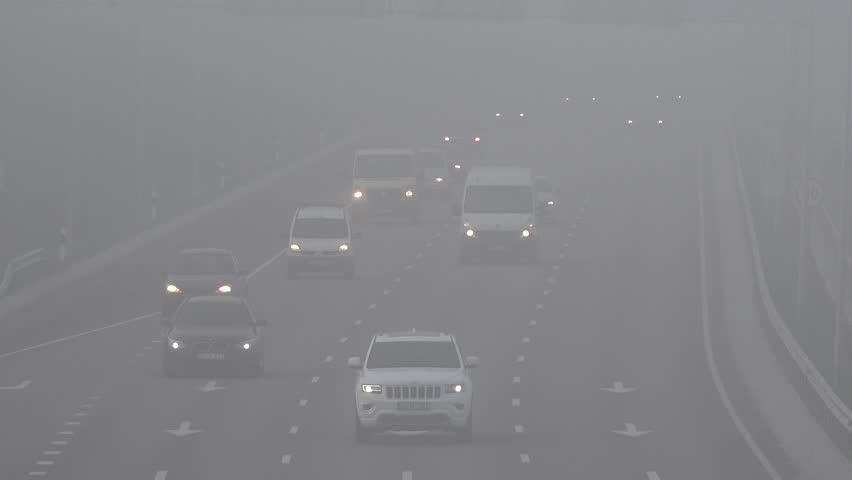airplane: (352, 157, 456, 222), (612, 421, 654, 436), (600, 379, 639, 393)
bird: (607, 388, 656, 434), (164, 419, 207, 436), (612, 421, 654, 436), (600, 379, 639, 393), (619, 417, 651, 431), (604, 376, 629, 391)
boat: (442, 363, 658, 438), (347, 149, 466, 241), (612, 421, 654, 436), (599, 382, 640, 394)
bus: (299, 151, 452, 274), (379, 153, 527, 253), (345, 320, 468, 431), (349, 149, 465, 237), (347, 158, 425, 264), (461, 170, 542, 264), (393, 159, 467, 257), (345, 145, 417, 223), (160, 250, 249, 312), (353, 174, 450, 227), (287, 200, 354, 275)
car: (3, 164, 852, 450), (0, 259, 411, 468), (308, 156, 609, 343), (206, 146, 539, 293), (51, 353, 453, 466), (21, 239, 285, 406), (14, 318, 303, 455), (150, 298, 469, 421), (187, 180, 417, 343), (146, 255, 425, 375), (332, 321, 592, 449), (193, 333, 442, 441), (418, 338, 660, 447), (290, 139, 462, 284), (374, 177, 561, 310), (247, 201, 460, 315), (354, 164, 488, 337), (174, 348, 355, 475), (332, 159, 533, 270), (0, 245, 225, 344), (149, 220, 342, 332), (69, 252, 251, 367), (217, 165, 408, 274), (32, 222, 258, 314), (0, 280, 220, 372), (294, 309, 465, 419), (150, 261, 307, 366), (360, 280, 479, 415), (355, 332, 474, 438), (349, 150, 466, 256), (177, 297, 328, 376), (325, 182, 455, 272), (393, 155, 525, 242), (120, 240, 256, 320), (238, 267, 348, 364), (66, 279, 211, 350), (162, 288, 266, 377), (459, 167, 550, 260), (383, 183, 474, 270), (431, 168, 515, 256), (161, 259, 262, 329), (317, 172, 396, 260), (349, 216, 464, 276), (342, 146, 435, 218), (212, 268, 277, 369), (207, 263, 318, 321), (178, 250, 287, 309), (159, 274, 239, 354), (303, 199, 386, 275), (229, 274, 306, 355), (284, 163, 355, 250), (348, 185, 419, 266), (127, 269, 223, 327), (173, 236, 274, 290), (233, 243, 308, 313), (286, 202, 355, 278), (369, 163, 463, 218), (453, 203, 537, 263), (351, 172, 443, 226), (158, 255, 217, 337), (222, 251, 279, 334), (492, 169, 562, 235), (162, 246, 243, 299), (467, 166, 539, 222), (152, 279, 190, 374), (157, 271, 199, 349), (201, 246, 265, 295), (523, 179, 557, 249), (388, 181, 452, 217), (163, 277, 213, 323), (366, 189, 430, 224), (176, 246, 243, 278), (449, 164, 476, 243), (229, 248, 278, 291), (438, 161, 470, 226), (422, 163, 465, 211), (355, 183, 413, 218), (165, 286, 191, 351), (162, 271, 222, 297), (208, 247, 263, 274), (159, 275, 193, 318), (161, 280, 185, 337), (160, 300, 183, 356), (346, 184, 382, 219), (455, 188, 479, 240), (406, 170, 447, 200), (532, 175, 559, 220), (434, 160, 467, 196), (240, 248, 283, 275), (179, 245, 235, 265), (330, 184, 368, 211), (423, 166, 456, 196), (457, 212, 479, 253), (445, 214, 479, 240), (225, 248, 248, 284), (165, 316, 184, 352), (348, 187, 367, 222), (163, 280, 182, 315), (537, 186, 559, 213), (440, 161, 468, 181), (162, 273, 182, 297), (424, 168, 449, 186), (427, 171, 446, 193), (350, 186, 367, 208), (461, 220, 479, 239), (449, 160, 467, 176)
cell phone: (162, 288, 266, 377)
chair: (1, 232, 68, 293)
fire hydrant: (160, 276, 184, 332)
kite: (599, 379, 637, 393)
motorcycle: (286, 200, 354, 275), (160, 280, 184, 337)
parking meter: (161, 275, 184, 325), (163, 280, 182, 309), (449, 161, 466, 187)
person: (350, 318, 466, 431), (459, 167, 541, 263), (164, 284, 237, 373), (286, 201, 354, 274), (158, 276, 187, 332), (400, 188, 418, 224), (350, 187, 367, 214)
tennis racket: (162, 287, 267, 377)
traffic light: (161, 275, 184, 325), (163, 280, 182, 309), (449, 160, 467, 179)
truck: (266, 147, 561, 286), (354, 164, 488, 337), (217, 165, 408, 274), (299, 151, 452, 274), (379, 153, 527, 253), (357, 331, 475, 438), (149, 276, 268, 373), (348, 149, 468, 245), (139, 250, 260, 342), (349, 179, 454, 270), (461, 168, 542, 261), (284, 163, 355, 250), (397, 141, 467, 227), (349, 146, 461, 197), (349, 148, 424, 224), (470, 165, 559, 227), (161, 250, 250, 311), (453, 160, 514, 248), (353, 174, 450, 227), (287, 200, 354, 275), (375, 169, 457, 212), (347, 176, 413, 220), (170, 246, 244, 285), (160, 280, 184, 337), (532, 176, 559, 220)
